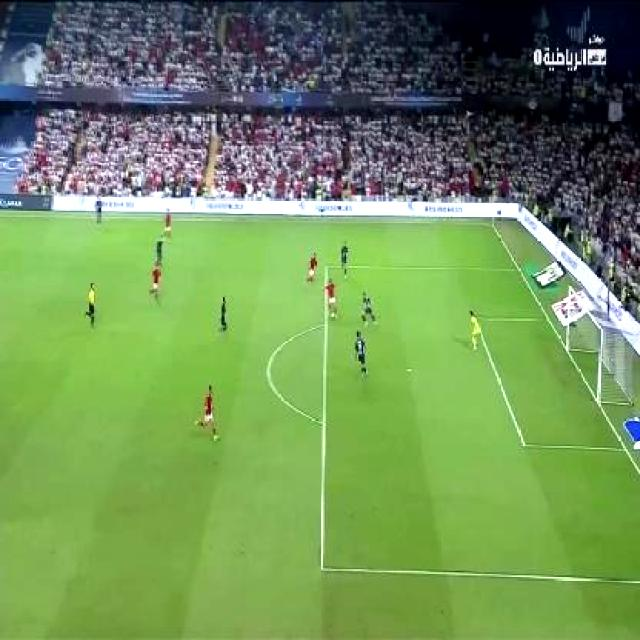bigarea_bottom_inner: (312, 558, 332, 578)
bigarea_top_inner: (320, 262, 334, 276)
bigarea_top_outter: (510, 263, 524, 275)
bottom_arc_area_intersection: (316, 415, 332, 431)
corner: (486, 222, 494, 228)
smallarea_bottom_inner: (515, 437, 534, 454)
smallarea_bottom_outter: (617, 442, 635, 462)
smallarea_top_outter: (538, 309, 556, 328)
top_arc_area_intersection: (320, 317, 332, 332)
